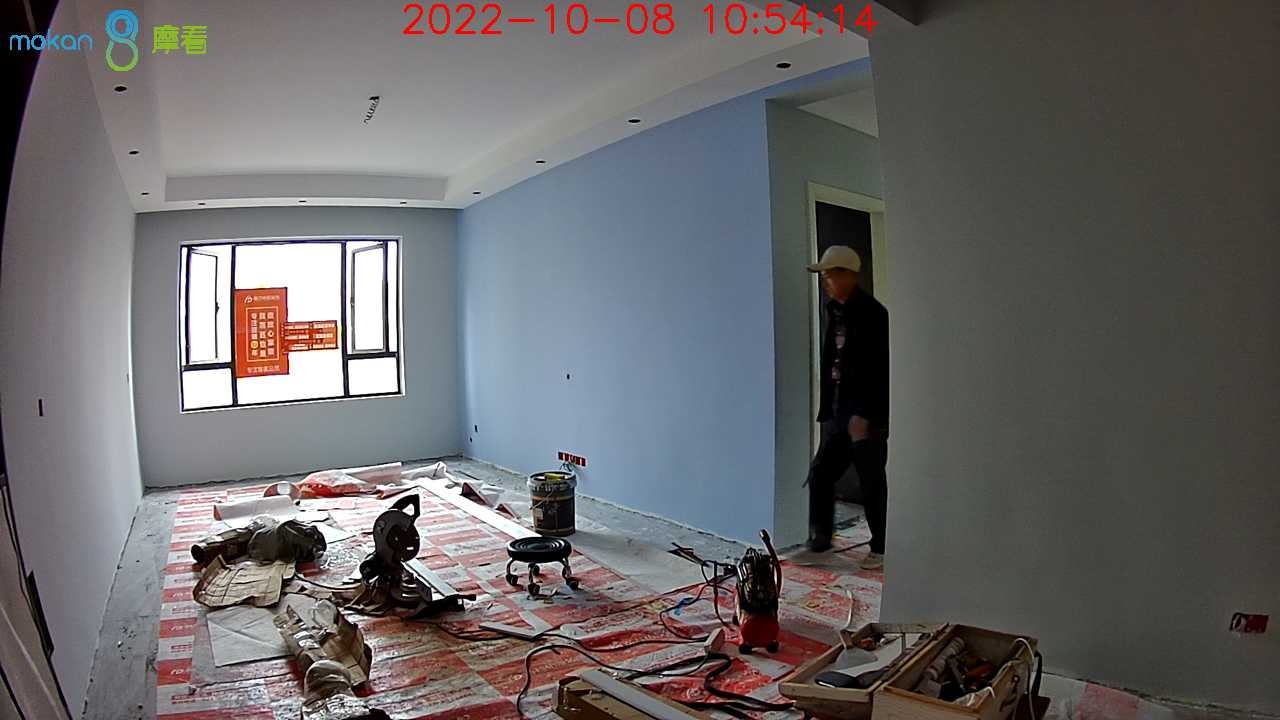people: (806, 243, 887, 572)
window: (178, 240, 413, 404)
